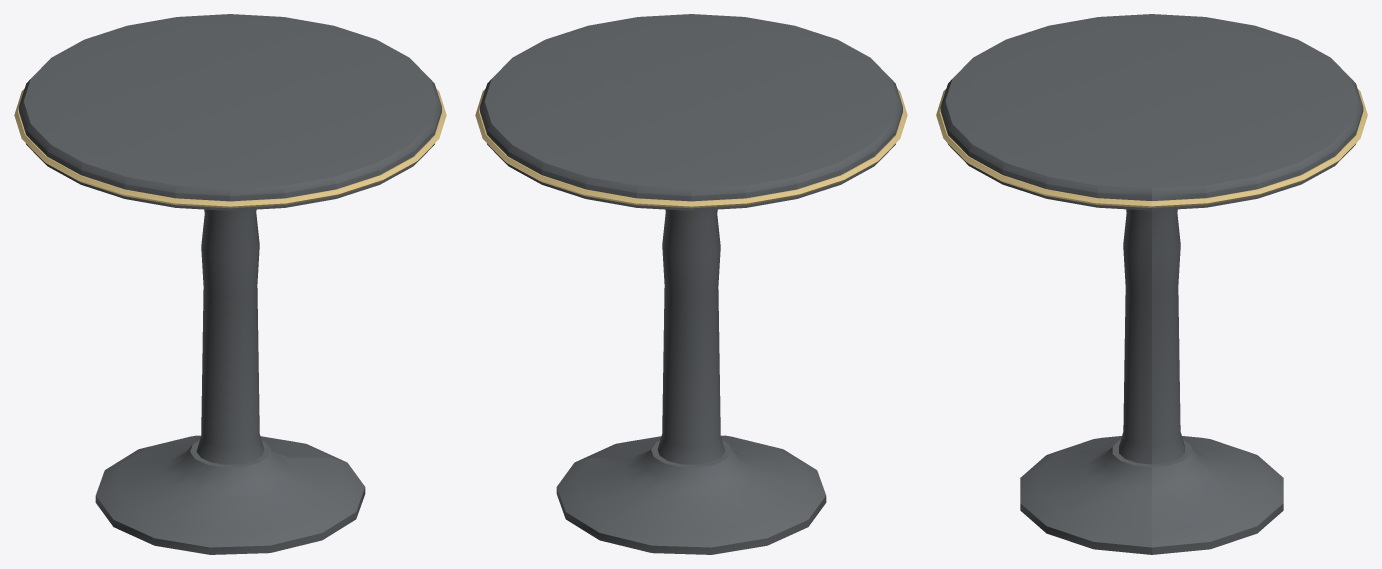
The model's file is bar-pub-and-brewery-taproom-pub-table-round-ebonised-1e99e2b9__18394.glb.
The picture shows the model from 3 angles, left to right: view 1: azimuth 30°, elevation 25°; view 2: azimuth 150°, elevation 25°; view 3: azimuth 270°, elevation 25°; orthographic projection.
Visible parts, largest first — view 1: pub-table-round-ebonised; view 2: pub-table-round-ebonised; view 3: pub-table-round-ebonised.
Part boxes in pixels (bbox=[...]): pub-table-round-ebonised: bbox=[14, 14, 446, 554]; pub-table-round-ebonised: bbox=[475, 14, 907, 554]; pub-table-round-ebonised: bbox=[936, 14, 1367, 554].
Size of the model in its own units: 0.736 by 0.75 by 0.736.
